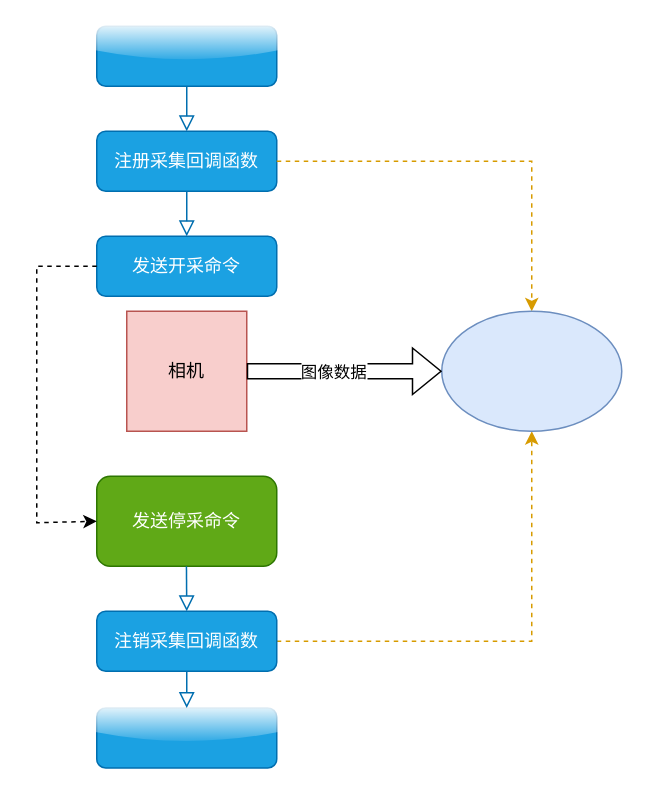
Some shapes in this 648 by 795 pixel diagram are drawn without their labels. Each missing label, with the box of its shape:
关闭设备: (95, 706, 277, 768)
图像处理回调函数: (440, 310, 622, 431)
打开设备: (95, 25, 277, 86)
